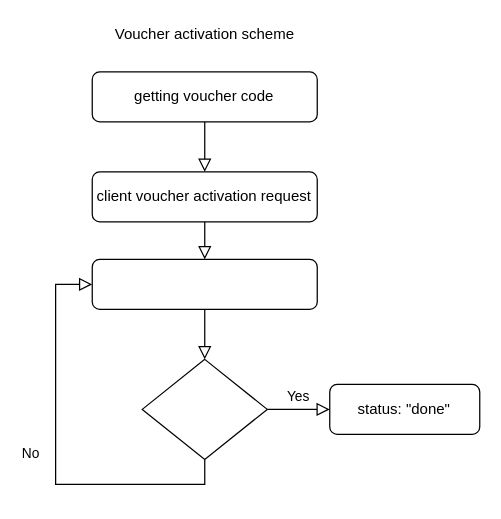
The diagram is 501 pixels wide and 519 high, and some of its shapes have lost their labels. The shapes that lost their labels are listed below. From the top down, each one's box as (x1, y1, x2, y2) in pixels, then its label:
(91, 258, 317, 309): Search voucher activation status in financial history
(141, 358, 267, 459): Was the voucher activated?
